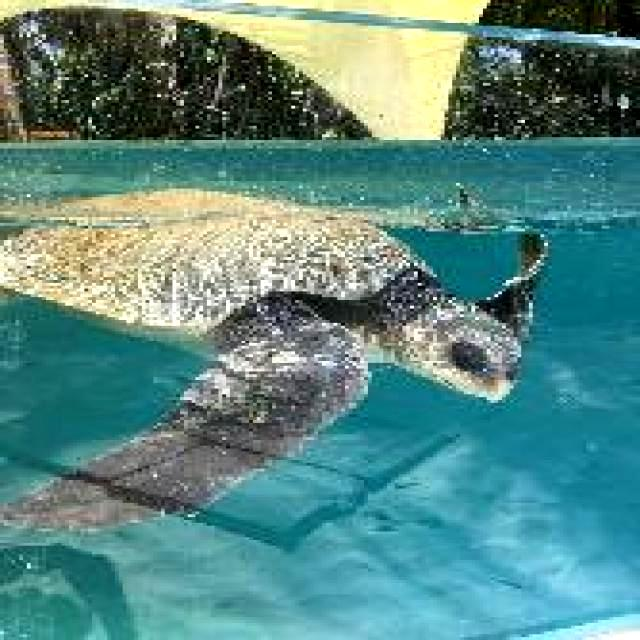Sea turtle: (0, 176, 552, 534)
